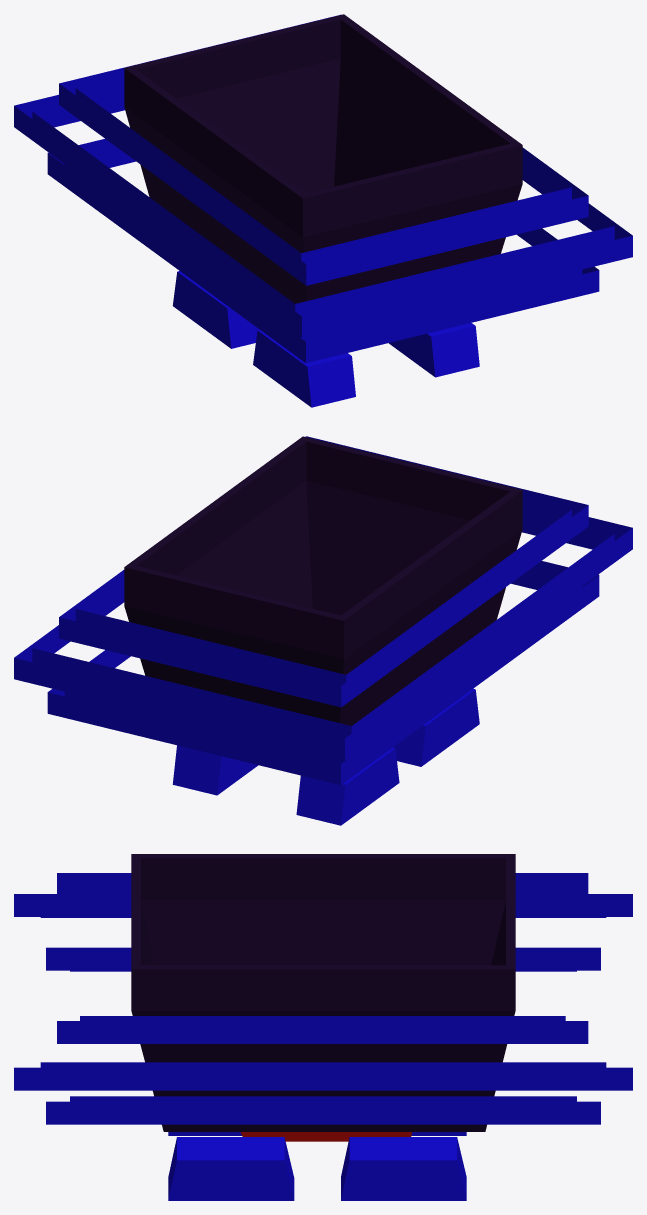
File: Cart.FBX
The picture shows the model from 3 angles, top to bottom: view 1: azimuth 30°, elevation 25°; view 2: azimuth 150°, elevation 25°; view 3: azimuth 270°, elevation 25°; orthographic projection. The views are drawn at different scales.
Parts seen in each view (by area): view 1: Box001, Box003; view 2: Box001, Box003; view 3: Box001, Box003, Box002.
Boxes of the visible parts, x1,y1,x2,y2 form: Box001: (14, 14, 632, 362); Box003: (172, 271, 479, 407); Box001: (14, 436, 632, 785); Box003: (172, 688, 479, 825); Box001: (14, 854, 632, 1131); Box003: (168, 1132, 466, 1200); Box002: (240, 1132, 411, 1141).
Size of the model in its own units: 42.78 by 28.14 by 64.46.
